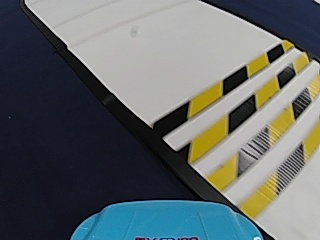bump: (189, 46, 311, 181)
